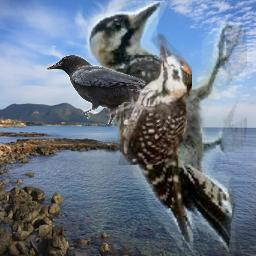Crow: (46, 55, 148, 124)
Woodpecker: (85, 1, 247, 256), (105, 33, 192, 165)
